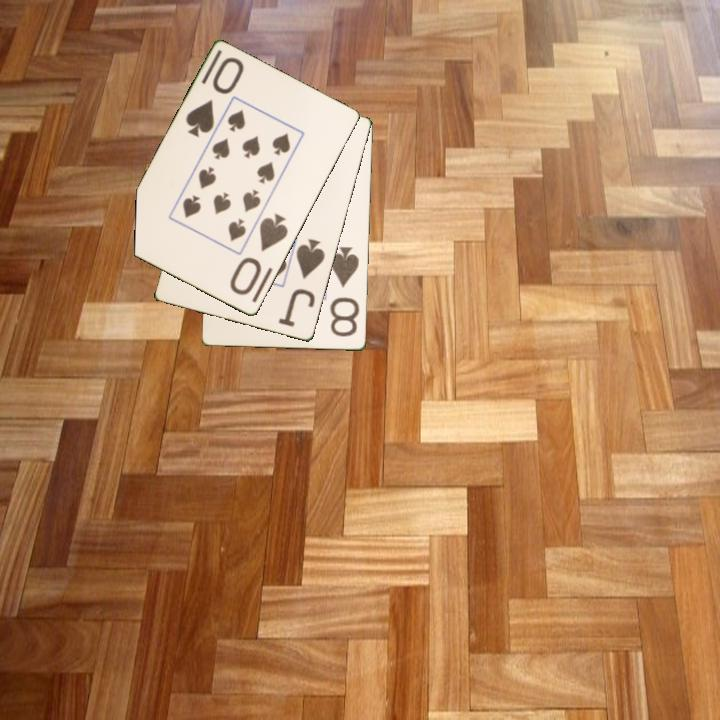10s: (226, 210, 291, 299), (182, 54, 247, 141)
8s: (327, 243, 362, 340)
Js: (275, 235, 328, 330)
